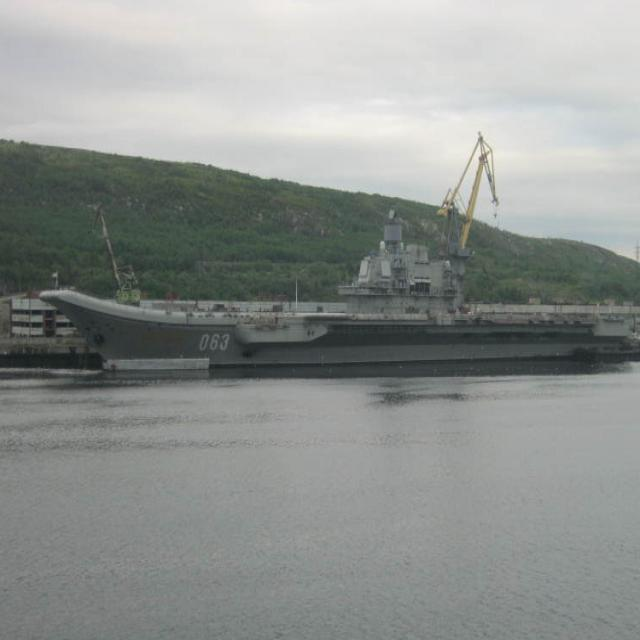Portanaves: (37, 207, 640, 389)
